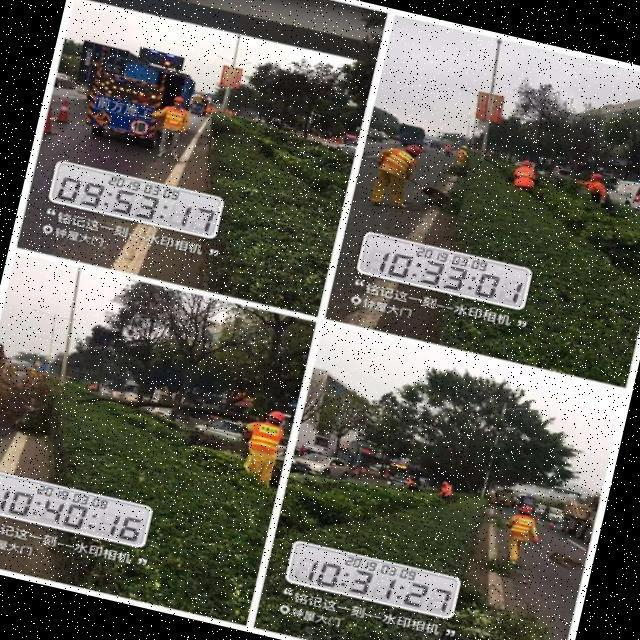fallen_object: (70, 372, 254, 444)
